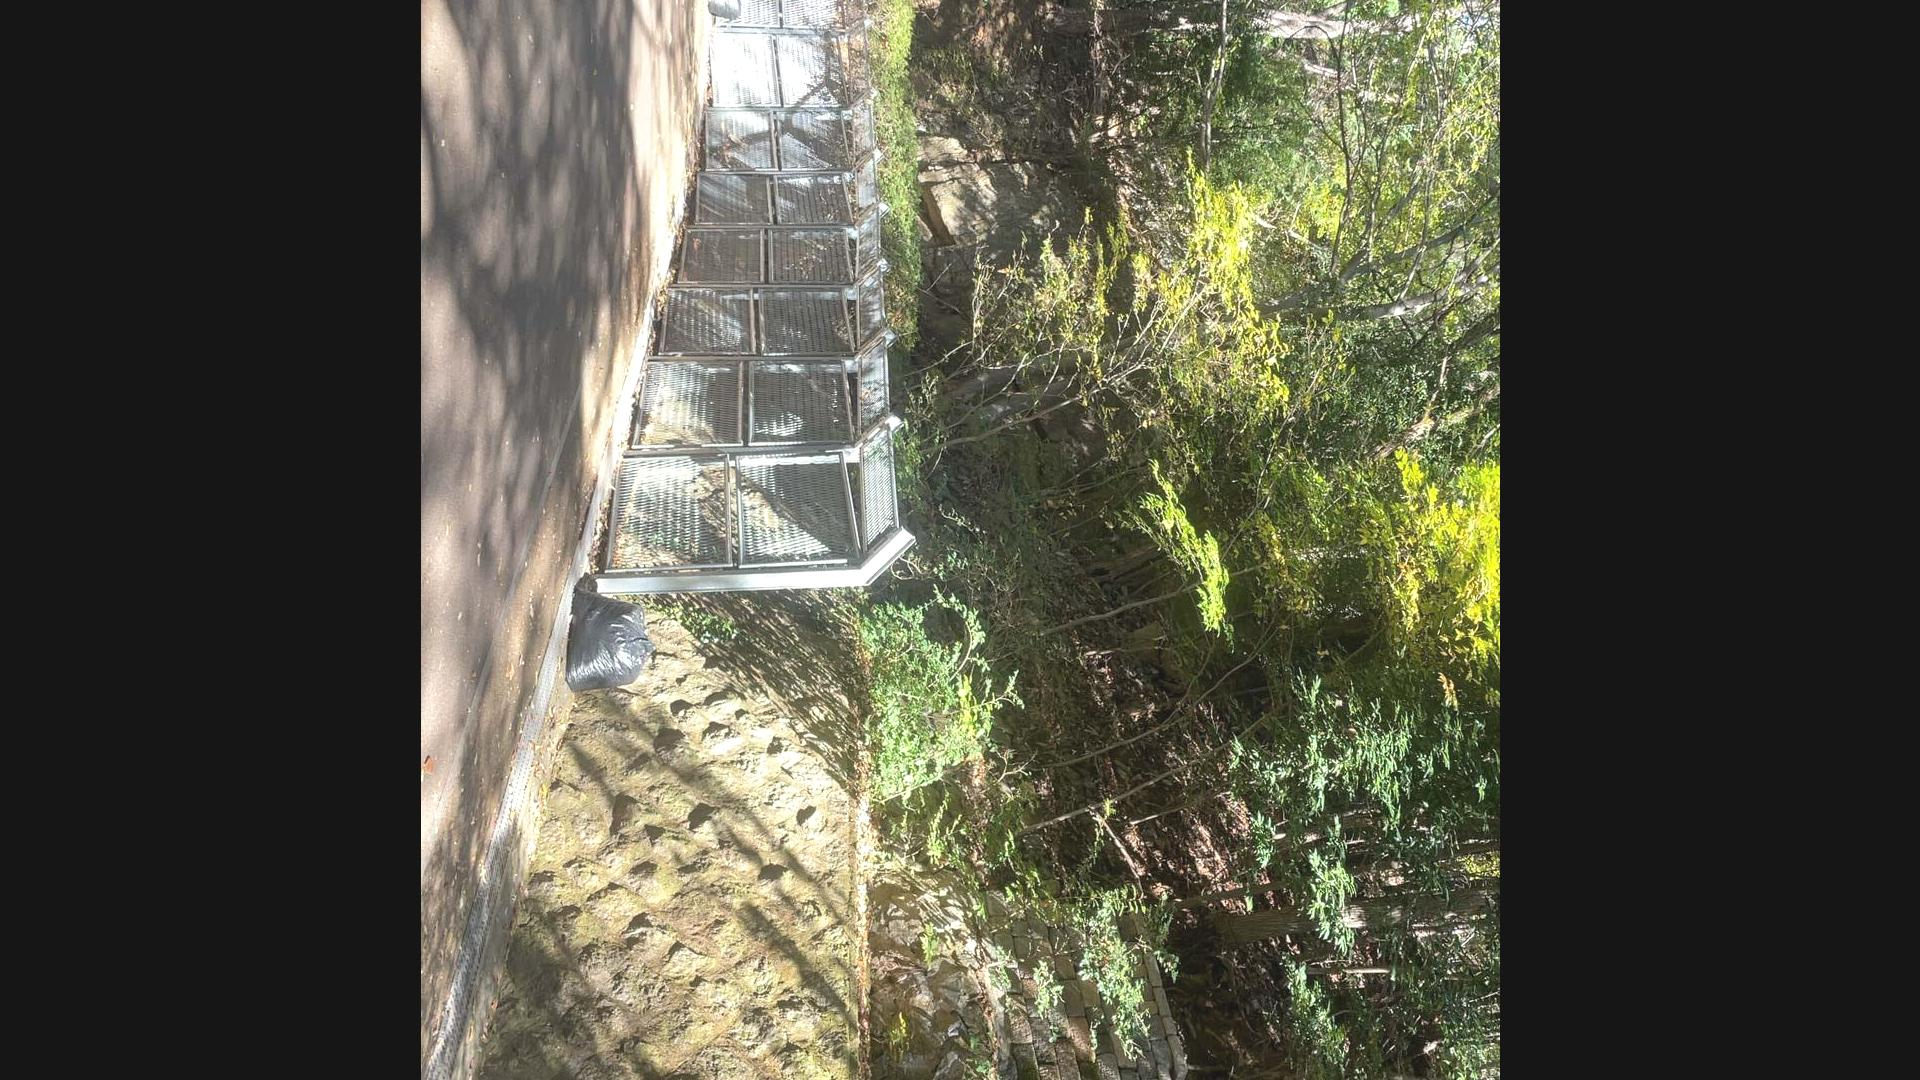black_bag: (563, 582, 659, 698), (705, 0, 746, 22)
